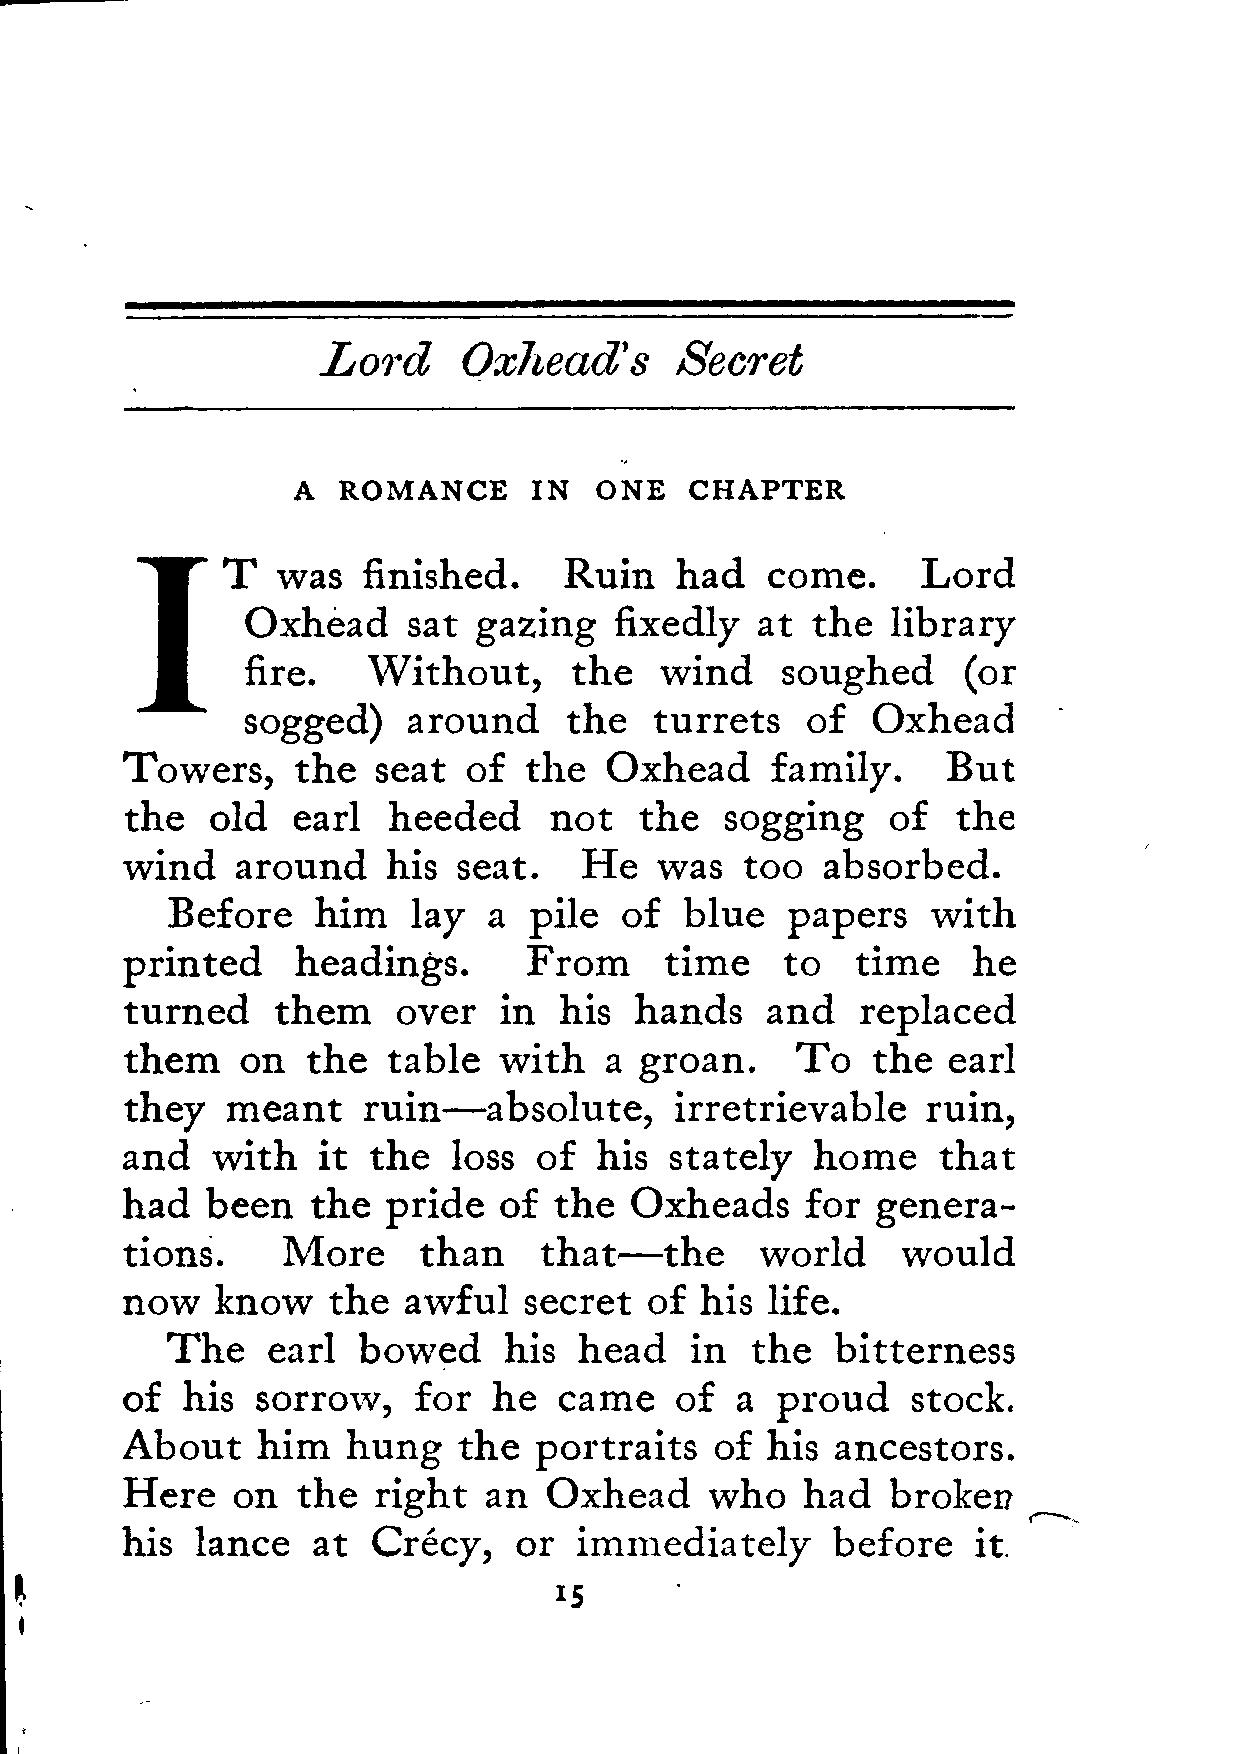chapter: (317, 334, 807, 378), (291, 475, 845, 505)
content: (119, 548, 1019, 1569)
content_pagenumber: (552, 1582, 586, 1614)
